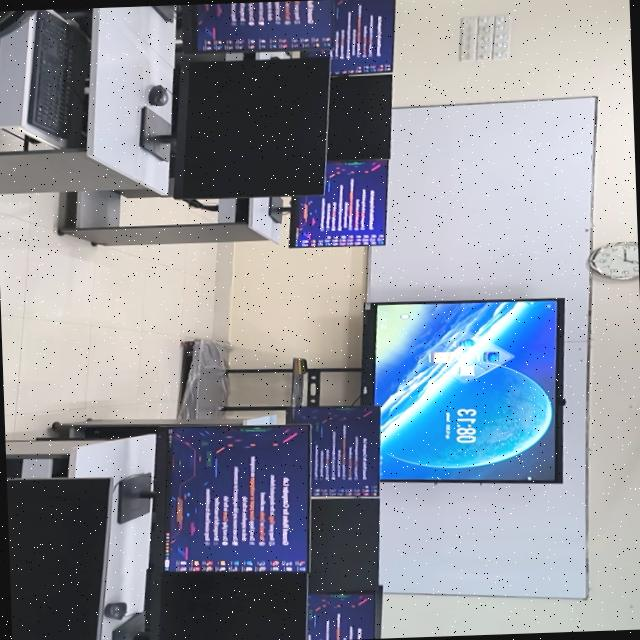Chair: (0, 10, 36, 38), (174, 52, 259, 63)
Digital board: (177, 298, 565, 482)
Keyboard: (26, 10, 84, 146)
Monitor: (117, 425, 309, 571), (139, 56, 327, 199), (5, 479, 108, 640), (111, 571, 305, 640), (268, 160, 387, 247), (150, 0, 332, 53), (291, 405, 378, 496), (308, 498, 378, 593), (327, 74, 391, 162), (328, 0, 394, 75), (306, 593, 374, 640), (373, 585, 382, 638)
Mouse: (147, 85, 170, 106), (103, 602, 126, 619)
